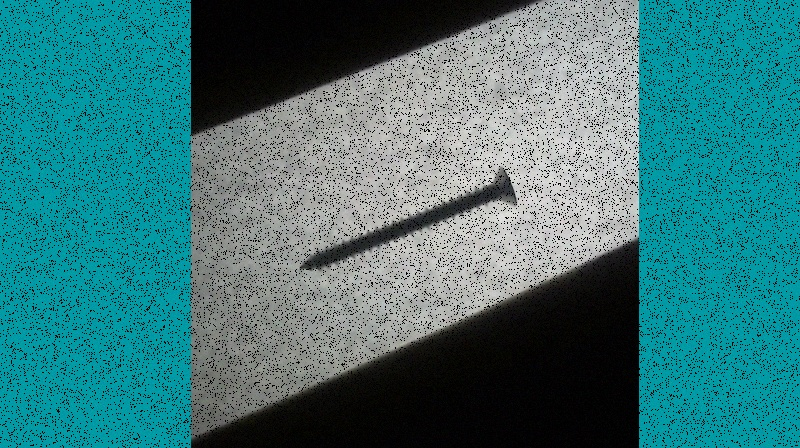S002: (295, 162, 518, 273)
